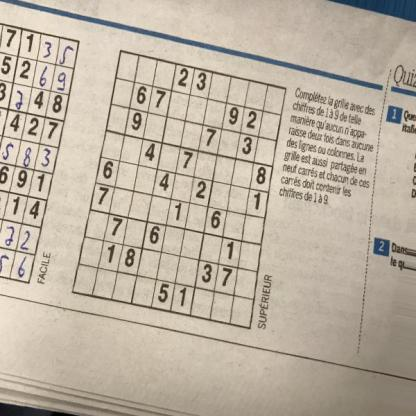sudoku: (75, 30, 288, 346)
